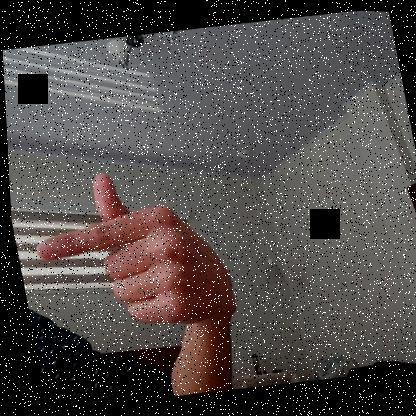T: (17, 154, 240, 354)
